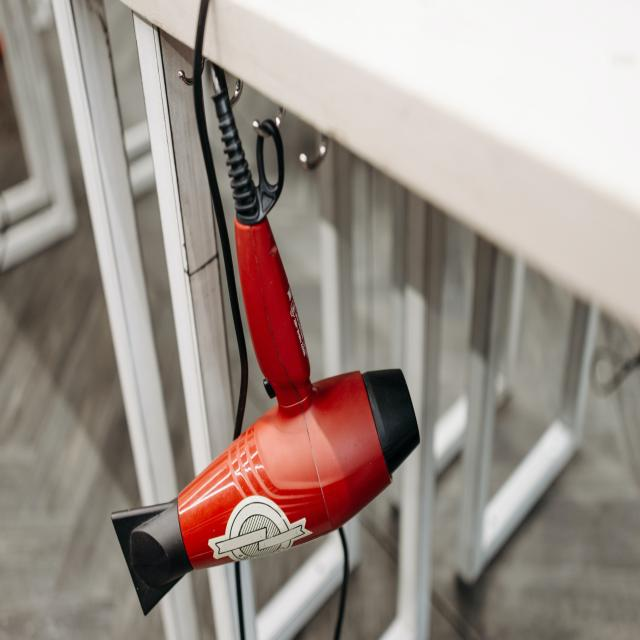dryer: (110, 91, 422, 616)
